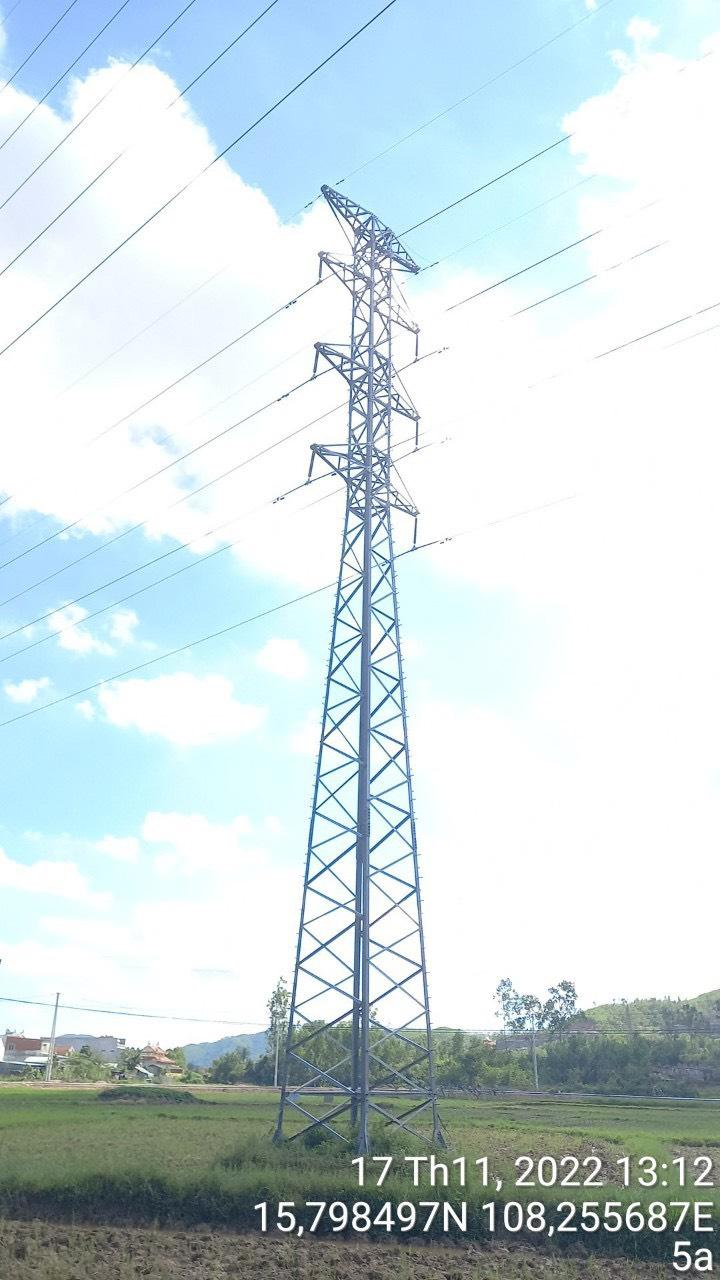power_tower: (294, 170, 434, 1150)
